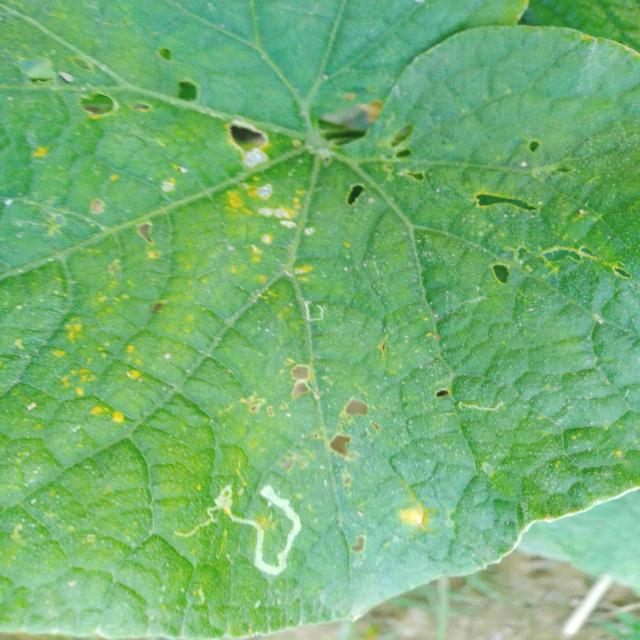cucumber_downy: (16, 42, 623, 540)
